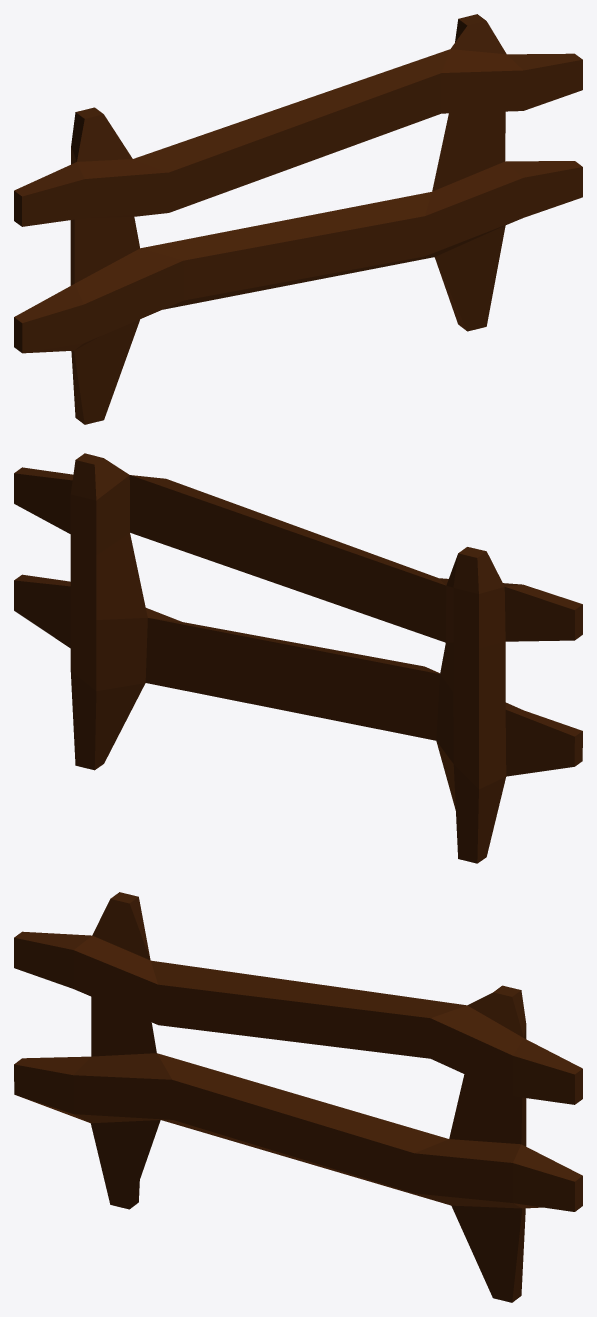
Rendered from barrière1.FBX.
The picture shows the model from 3 angles, top to bottom: view 1: azimuth 30°, elevation 25°; view 2: azimuth 150°, elevation 25°; view 3: azimuth 330°, elevation 25°; orthographic projection.
Parts seen in each view (by area): view 1: Barriere1; view 2: Barriere1; view 3: Barriere1.
Part boxes in pixels (x1,y1,x2,y2): Barriere1: (14,14,582,424); Barriere1: (14,453,582,863); Barriere1: (14,892,582,1302).
Size of the model in its own units: 12.33 by 6.43 by 1.11.
